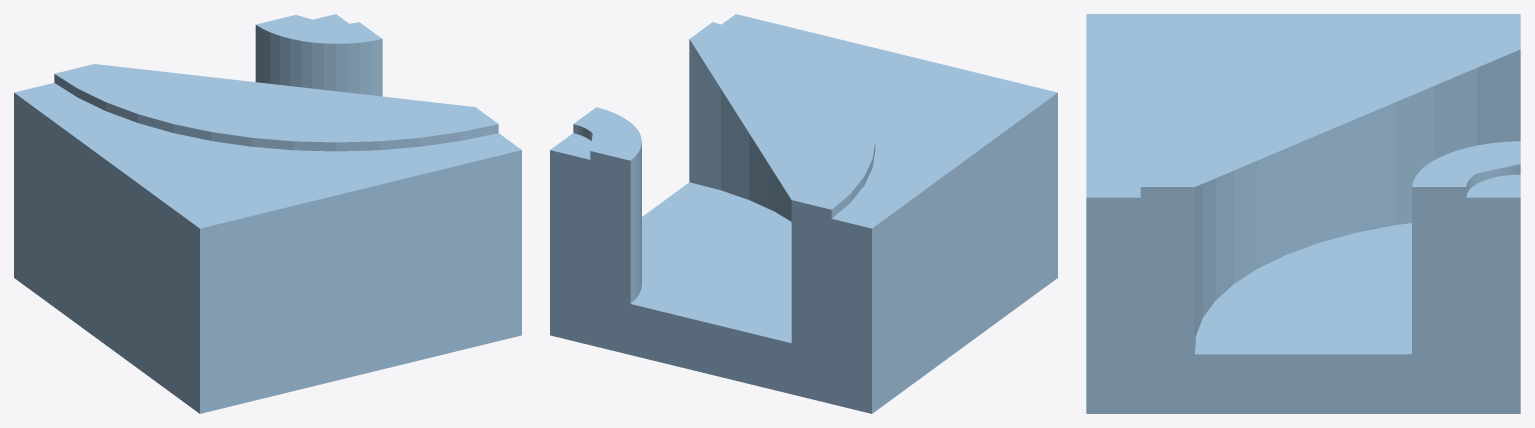
Rendered from roadtile_234.glb.
The picture shows the model from 3 angles, left to right: view 1: azimuth 30°, elevation 25°; view 2: azimuth 150°, elevation 25°; view 3: azimuth 270°, elevation 25°; orthographic projection. The views are drawn at different scales.
Parts seen in each view (by area): view 1: Mesh1 Group1 Model; view 2: Mesh1 Group1 Model; view 3: Mesh1 Group1 Model.
Part boxes in pixels (x1,y1,x2,y2): Mesh1 Group1 Model: (14, 14, 521, 413); Mesh1 Group1 Model: (550, 14, 1057, 413); Mesh1 Group1 Model: (1086, 14, 1520, 413).
Bounding box in the file's own units: 3 × 1.73 × 3.
